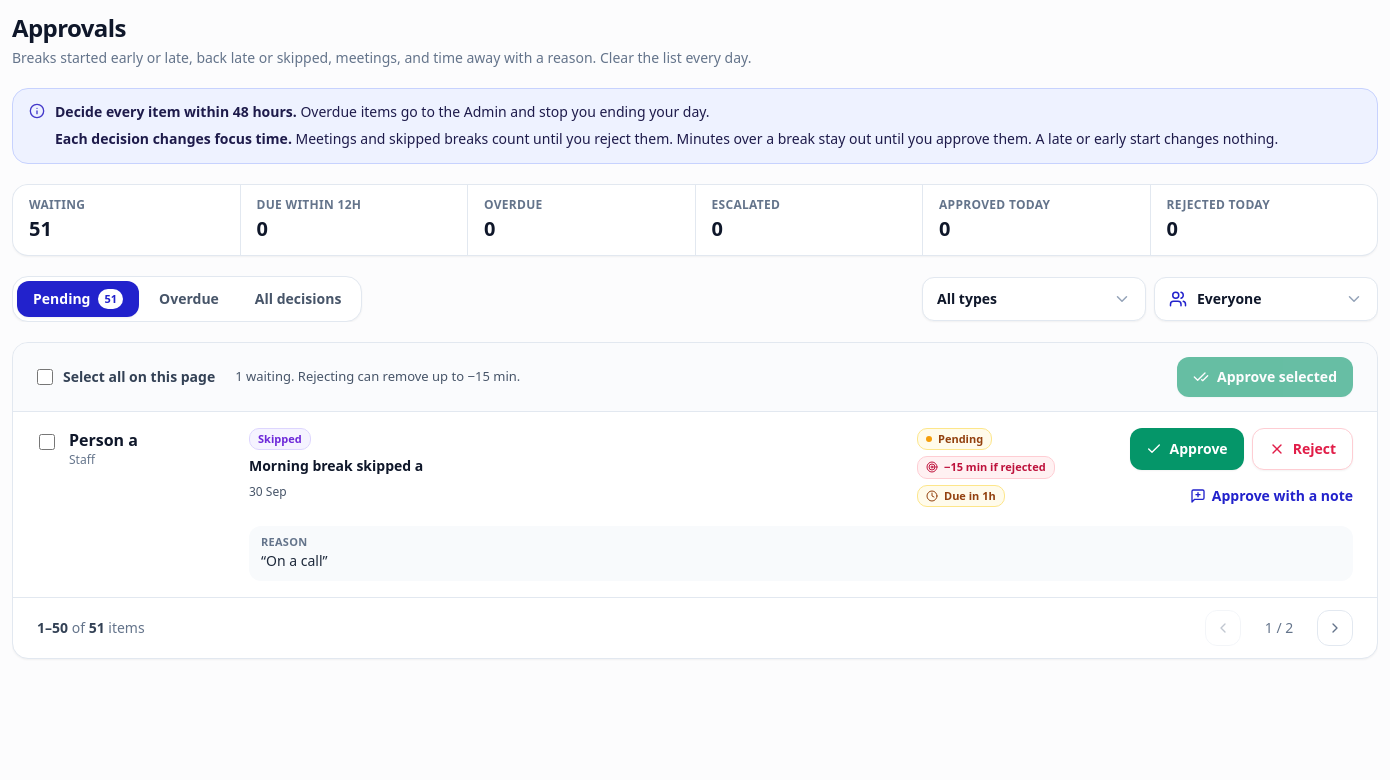
Test: ApprovalsView paging › keeps the pager under an empty page, so it can be left
Click the button named "Next page" at (1335,628), box [1317,610,1353,646]
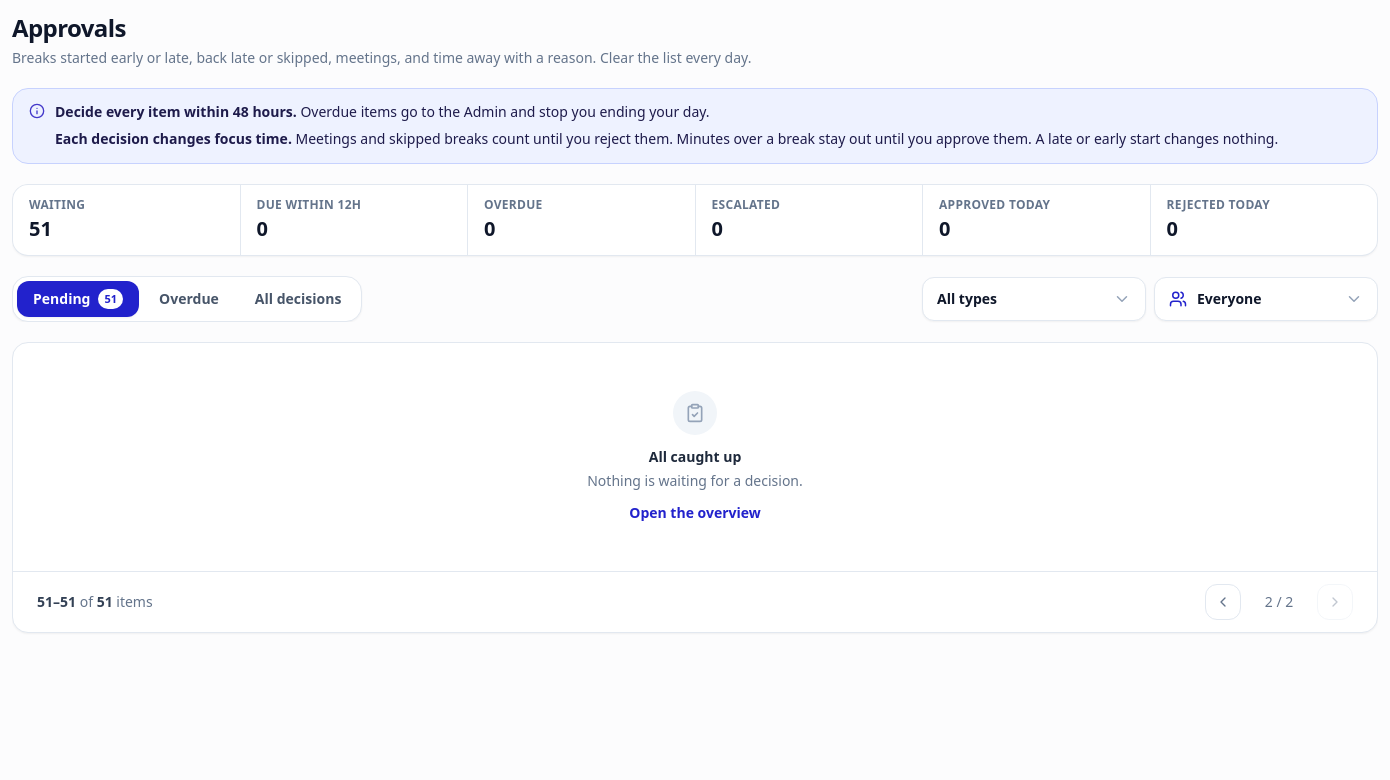
Expected: the text "All caught up" is shown, [649,446,741,466]
Click the button named "Previous page" at (1223,602), box [1205,584,1241,620]
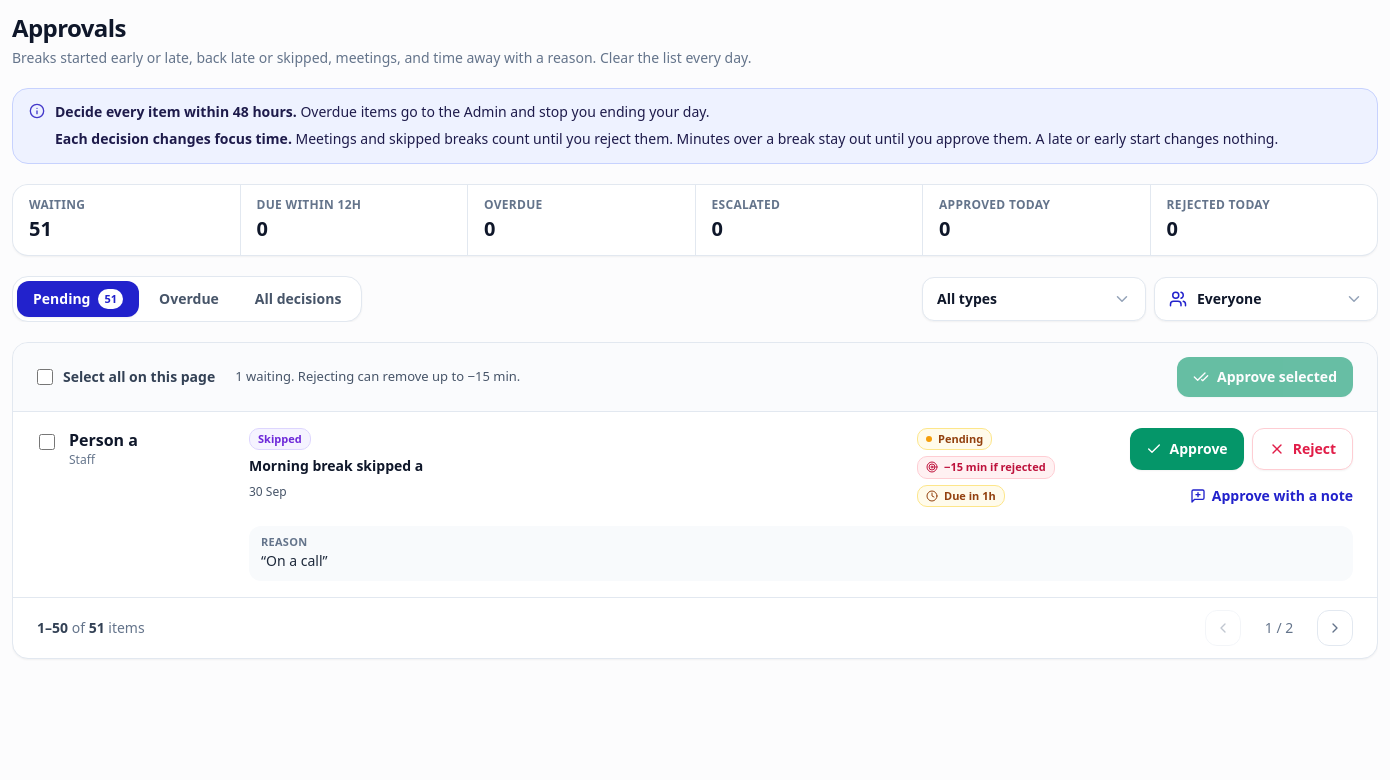
Expected: the element "Morning break skipped a" is shown, [13,412,1377,597]
